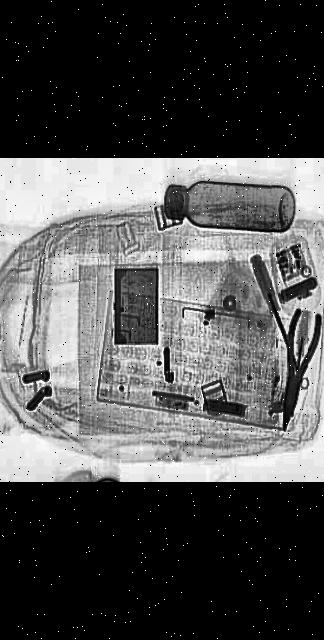Pliers: (266, 309, 324, 432)
